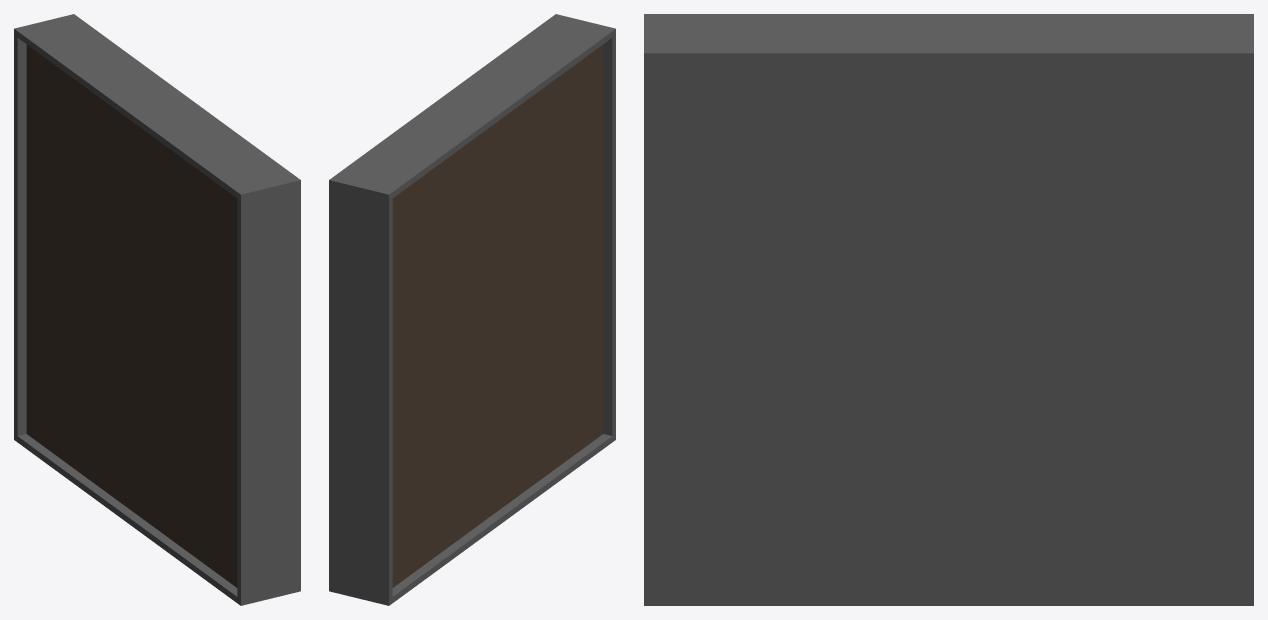
The model's file is Signboard_11.FBX.
3 views of the same model, side by side, from view 1: azimuth 30°, elevation 25°; view 2: azimuth 150°, elevation 25°; view 3: azimuth 270°, elevation 25° (orthographic). The views are drawn at different scales.
Parts seen in each view (by area): view 1: Signboard_11; view 2: Signboard_11; view 3: Signboard_11.
Part boxes in pixels (x1=…): Signboard_11: x1=14, y1=14, x2=300, y2=605; Signboard_11: x1=329, y1=14, x2=615, y2=605; Signboard_11: x1=644, y1=14, x2=1253, y2=605.
Bounding box in the file's own units: 9.85 × 64.44 × 64.44.
